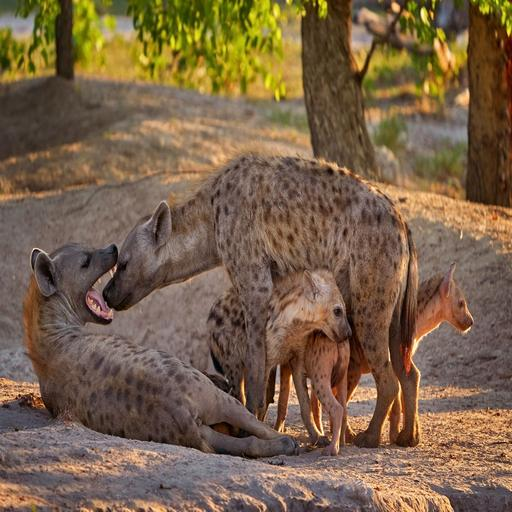Hyena: (99, 145, 426, 452), (17, 235, 320, 459), (195, 263, 352, 442), (299, 275, 475, 430)
